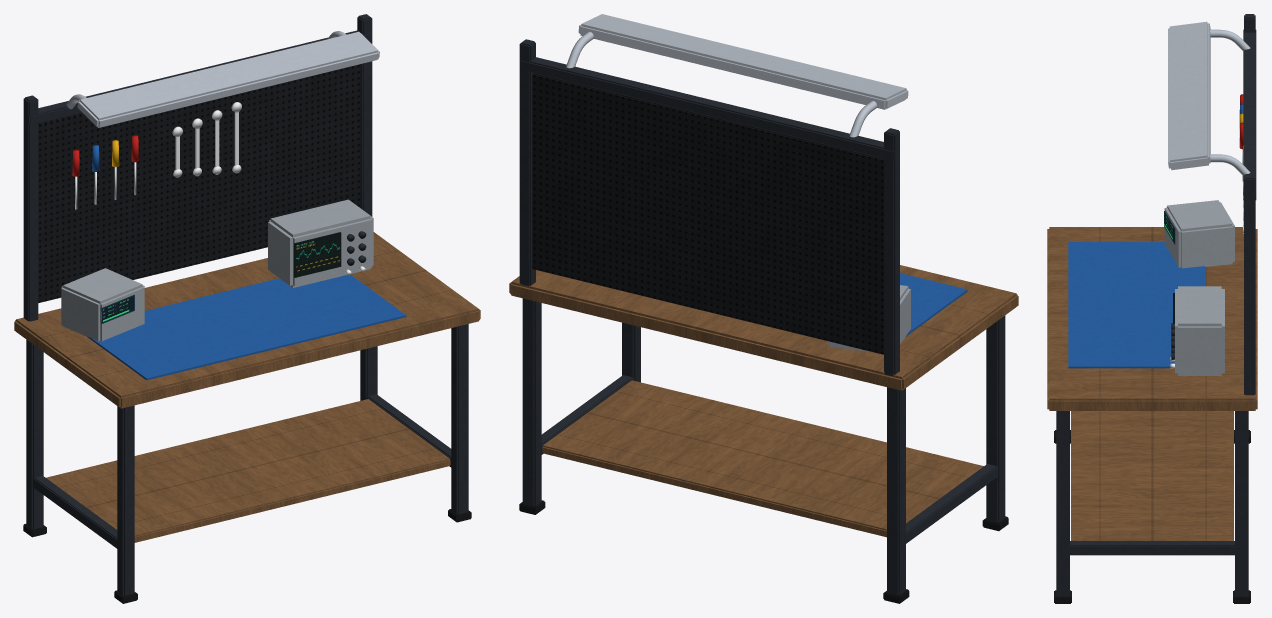
Rendered from decor_esd_workbench.glb.
The picture shows the model from 3 angles, left to right: view 1: azimuth 30°, elevation 25°; view 2: azimuth 150°, elevation 25°; view 3: azimuth 270°, elevation 25°; orthographic projection. The views are drawn at different scales.
Visible parts, largest first — view 1: DecorEsdWorkbench; view 2: DecorEsdWorkbench; view 3: DecorEsdWorkbench.
Part boxes in pixels (<box>): DecorEsdWorkbench: <box>14,14,480,603</box>; DecorEsdWorkbench: <box>509,14,1018,603</box>; DecorEsdWorkbench: <box>1047,14,1257,603</box>.
Bounding box in the file's own units: 1.56 × 1.81 × 0.8.
Materials: 13 (11 with a texture image).
